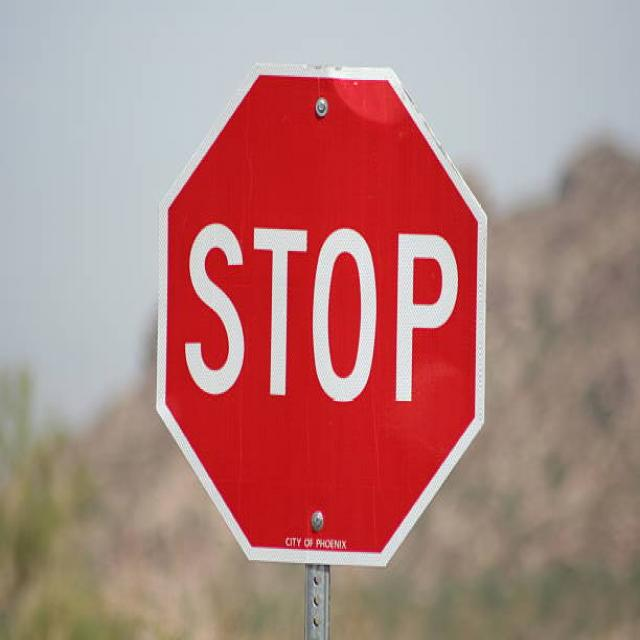stop: (152, 58, 488, 573)
